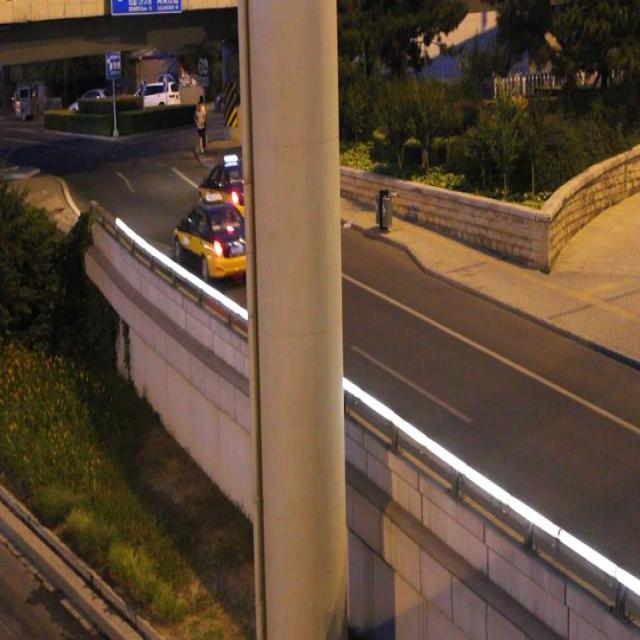car: (176, 204, 256, 283), (199, 162, 263, 220)
